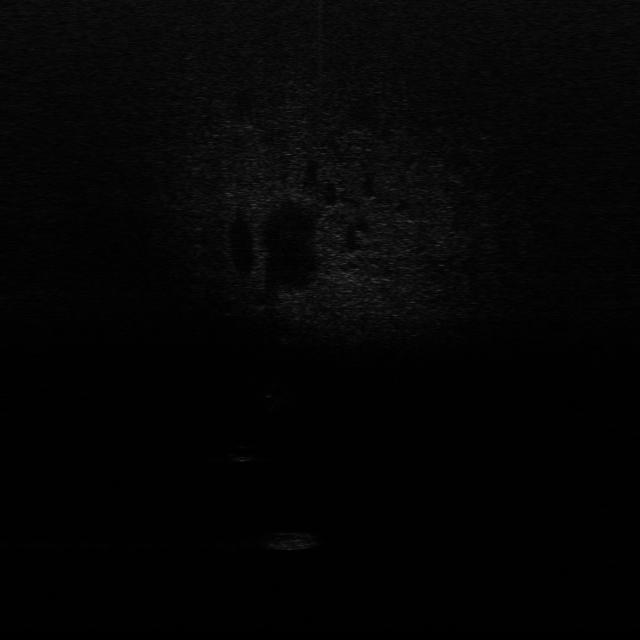ball: (230, 442, 256, 463)
circle cage: (260, 528, 320, 552)
human body: (262, 370, 287, 416)
